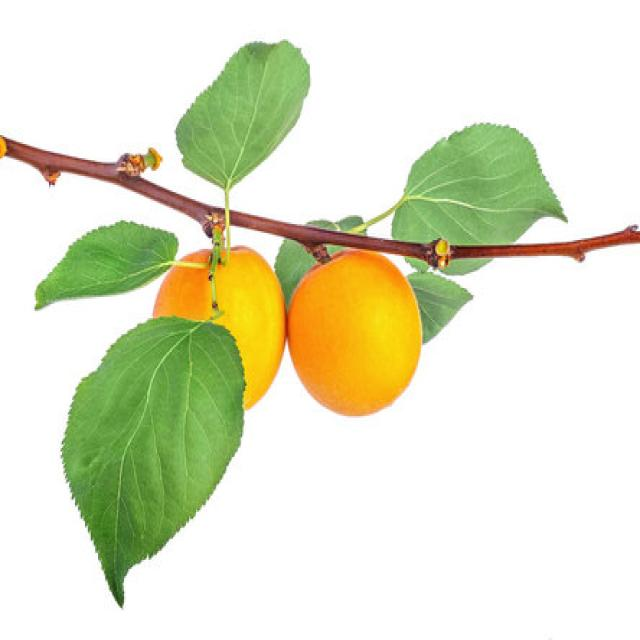kayisi: (300, 283, 418, 417), (171, 242, 284, 381)
yaprak: (107, 338, 217, 565), (405, 146, 554, 280), (189, 46, 319, 192), (36, 248, 176, 300), (413, 268, 476, 330), (290, 218, 340, 266)
